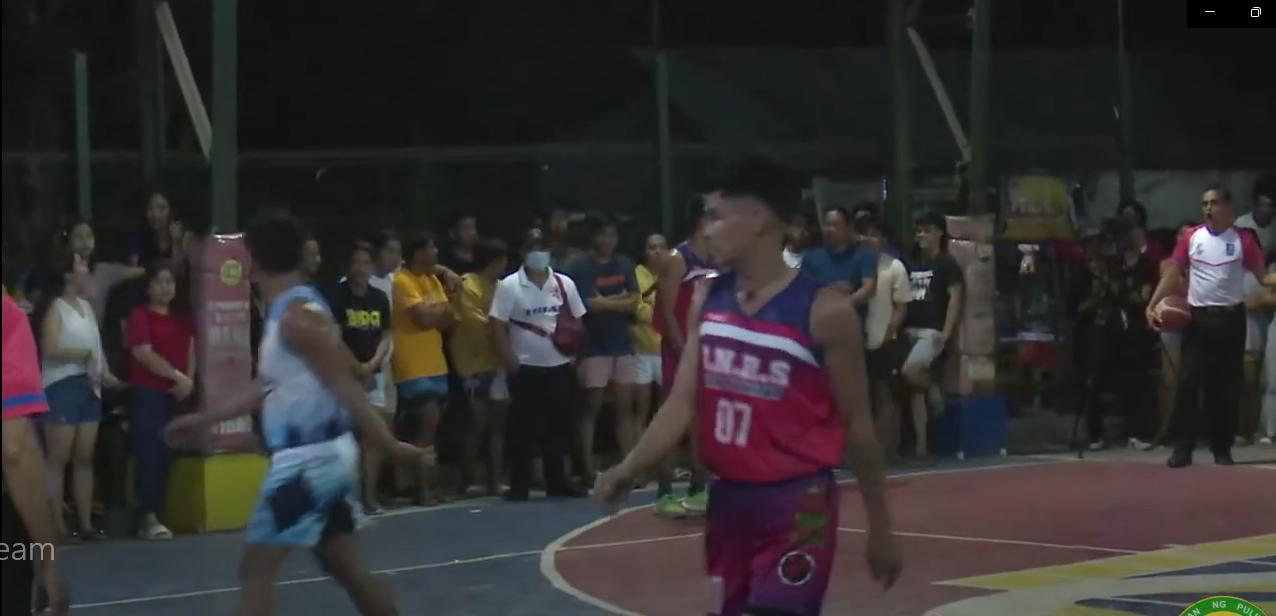ball: (1140, 287, 1198, 339)
human: (540, 142, 910, 616), (152, 200, 442, 616), (1123, 179, 1276, 481)
